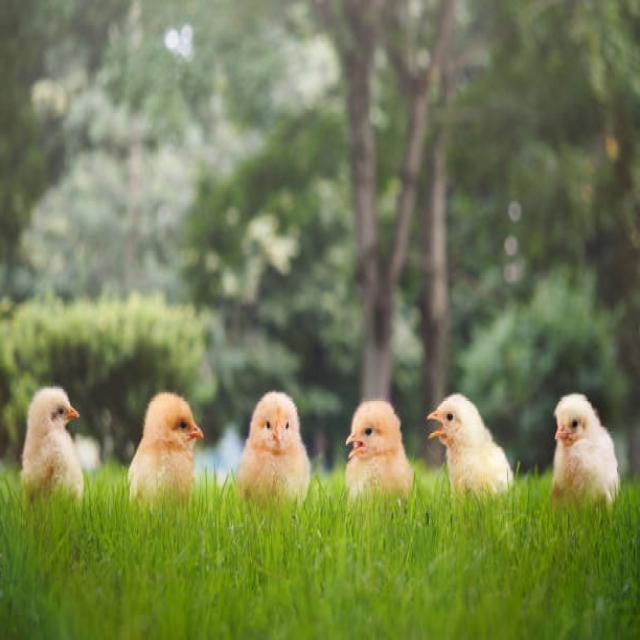poussin: (420, 396, 518, 514), (16, 381, 99, 508), (126, 391, 210, 508), (334, 396, 412, 512), (550, 394, 620, 521), (240, 391, 312, 508)
